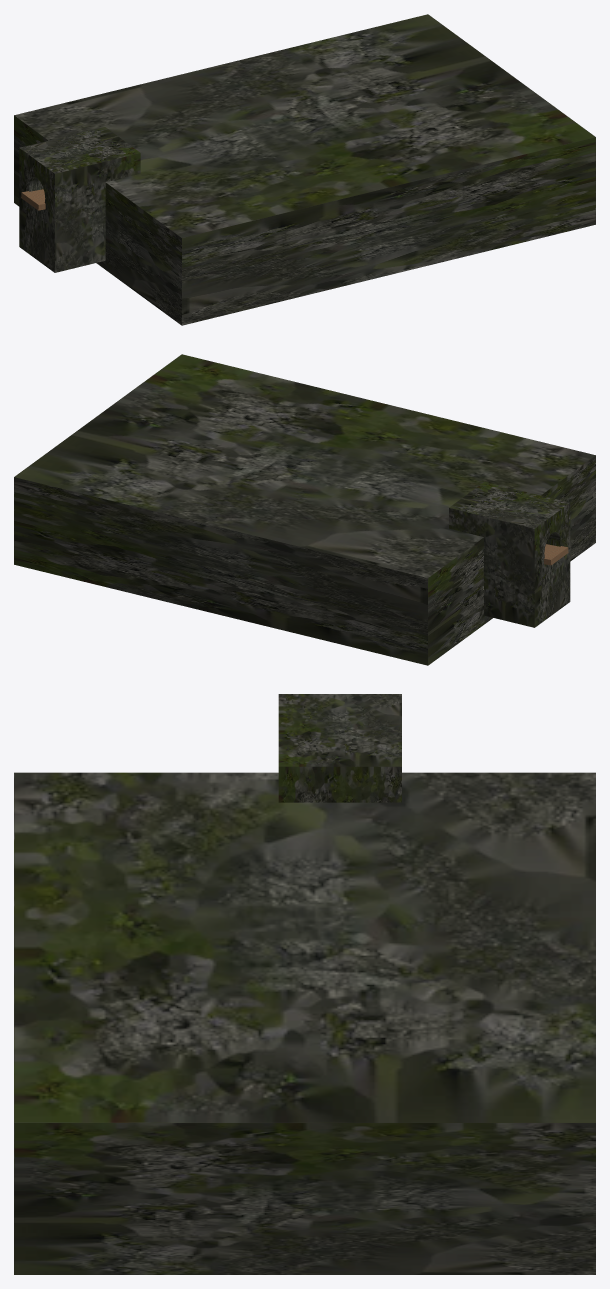
The model's file is cave.glb.
3 views of the same model, one above another, from view 1: azimuth 30°, elevation 25°; view 2: azimuth 150°, elevation 25°; view 3: azimuth 270°, elevation 25° (orthographic). The views are drawn at different scales.
Parts seen in each view (by area): view 1: m0; view 2: m0; view 3: m0.
Boxes of the visible parts, box(x1,y1,x2,y2) form: m0: box(14, 14, 595, 325); m0: box(14, 354, 595, 665); m0: box(14, 694, 595, 1274).
Size of the model in its own units: 107 by 23.5 by 66.
Materials: 14 (4 with a texture image).
